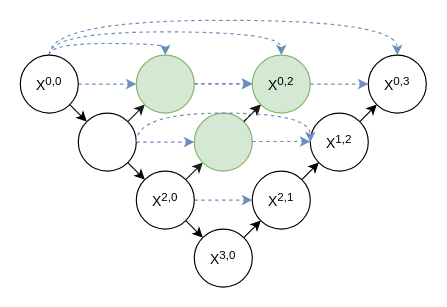
The diagram is 447 pixels wide and 307 high, and some of its shapes have lost their labels. The centre of each missing label's shape, as x and y in pixels:
"X 0,1" belongs at [164,83].
"X 1,0" belongs at [106,141].
"X 1,1" belongs at [222,141].
